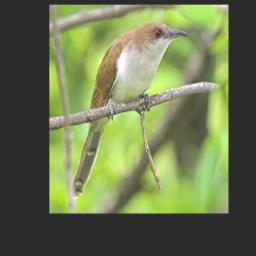Cuckoo: (72, 21, 189, 198)
